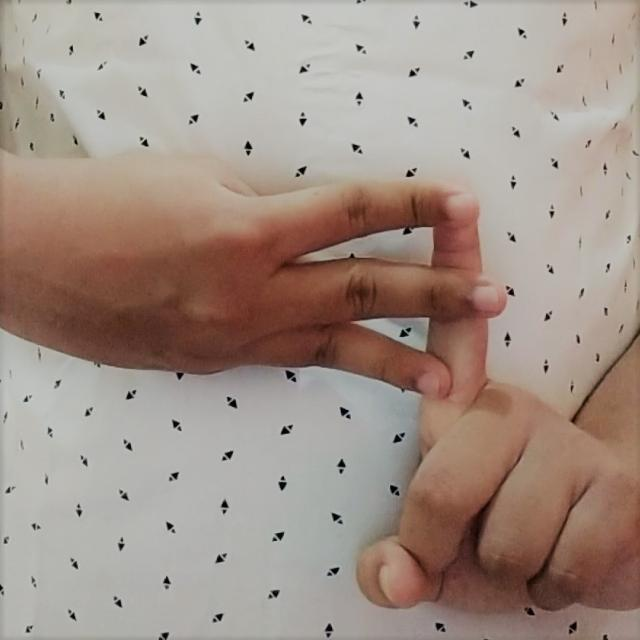B: (0, 151, 640, 612)
